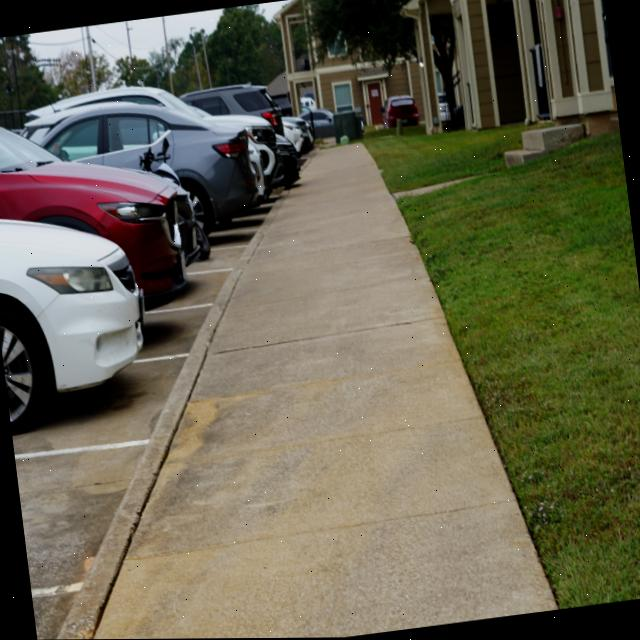Automobile: (0, 84, 342, 392), (0, 317, 47, 433), (380, 96, 418, 128)
Road: (12, 204, 270, 588), (32, 592, 74, 640)
Sidewalk: (92, 144, 558, 639), (54, 276, 237, 640)
